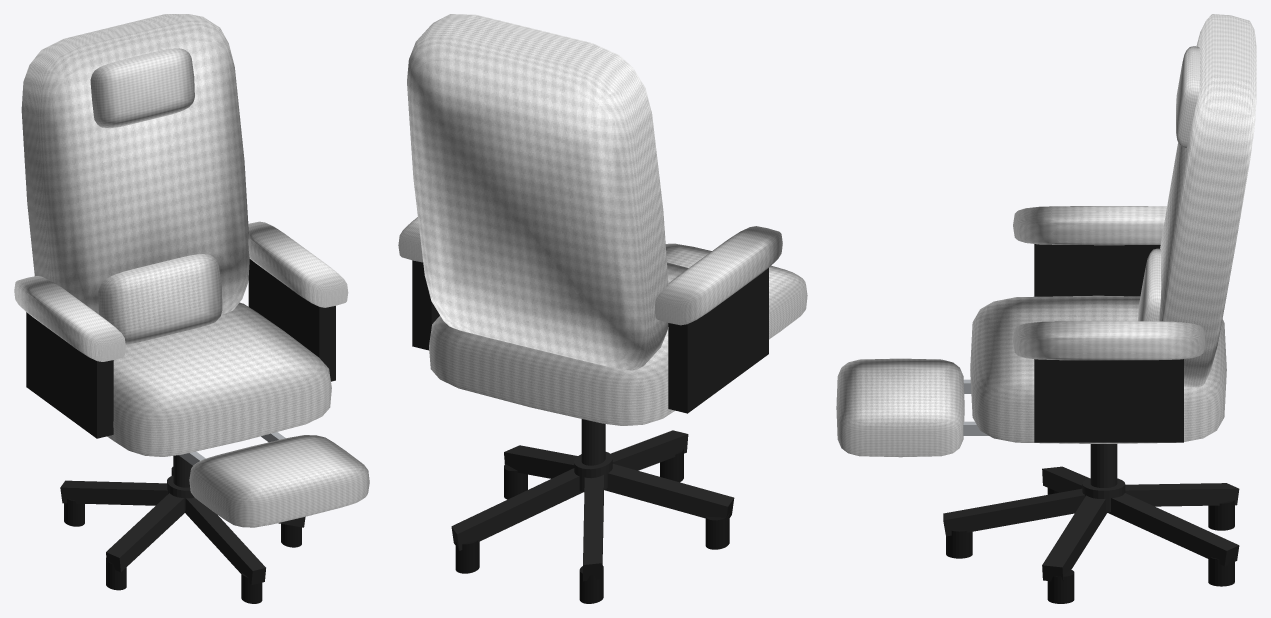
3 renders of one model, left to right at view 1: azimuth 30°, elevation 25°; view 2: azimuth 150°, elevation 25°; view 3: azimuth 270°, elevation 25°, orthographic. The views are drawn at different scales.
Parts seen in each view (by area): view 1: 2 backrest, 1 seat, 9 footrest_pad, 4 lumbar_pillow, 7 armrest_frame_left, 3 headrest, 5 armrest_pad_left, 8 armrest_frame_right, 6 armrest_pad_right, 18 base_spoke_5, 14 base_spoke_1, 17 base_spoke_4 (+3 smaller); view 2: 2 backrest, 1 seat, 7 armrest_frame_left, 5 armrest_pad_left, 16 base_spoke_3, 18 base_spoke_5, 9 footrest_pad, 17 base_spoke_4, 14 base_spoke_1, 15 base_spoke_2, 8 armrest_frame_right, 12 gas_lift (+7 smaller); view 3: 2 backrest, 1 seat, 8 armrest_frame_right, 9 footrest_pad, 6 armrest_pad_right, 7 armrest_frame_left, 5 armrest_pad_left, 16 base_spoke_3, 14 base_spoke_1, 15 base_spoke_2, 17 base_spoke_4, 3 headrest (+8 smaller).
Part boxes in pixels (x1,y1,x2,y2): 2 backrest: (21,14,249,314); 1 seat: (107,302,331,456); 9 footrest_pad: (189,435,369,527); 4 lumbar_pillow: (98,254,222,344); 7 armrest_frame_left: (26,312,113,438); 3 headrest: (90,48,194,128); 5 armrest_pad_left: (14,276,125,361); 8 armrest_frame_right: (248,259,335,381); 6 armrest_pad_right: (248,221,348,307); 18 base_spoke_5: (106,493,184,572); 14 base_spoke_1: (185,497,265,584); 17 base_spoke_4: (60,480,167,505); 2 backrest: (407,14,668,370); 1 seat: (429,262,688,425); 7 armrest_frame_left: (668,268,768,413); 5 armrest_pad_left: (655,226,782,325); 16 base_spoke_3: (451,468,582,550); 18 base_spoke_5: (604,464,734,521); 9 footrest_pad: (665,243,807,339); 17 base_spoke_4: (583,475,603,581); 14 base_spoke_1: (610,430,688,470); 15 base_spoke_2: (504,445,577,478); 8 armrest_frame_right: (412,260,439,350); 12 gas_lift: (581,419,605,465); 2 backrest: (1158,14,1256,387); 1 seat: (970,295,1226,443); 8 armrest_frame_right: (1034,359,1183,442); 9 footrest_pad: (836,358,964,457); 6 armrest_pad_right: (1013,321,1205,360); 7 armrest_frame_left: (1034,244,1160,296); 5 armrest_pad_left: (1013,206,1166,245); 16 base_spoke_3: (1107,493,1239,566); 14 base_spoke_1: (943,488,1085,536); 15 base_spoke_2: (1042,495,1106,581); 17 base_spoke_4: (1125,483,1239,506); 3 headrest: (1176,46,1199,147).
Size of the model in its own units: 0.56 by 1 by 0.75.
5 materials, 1 textured.
